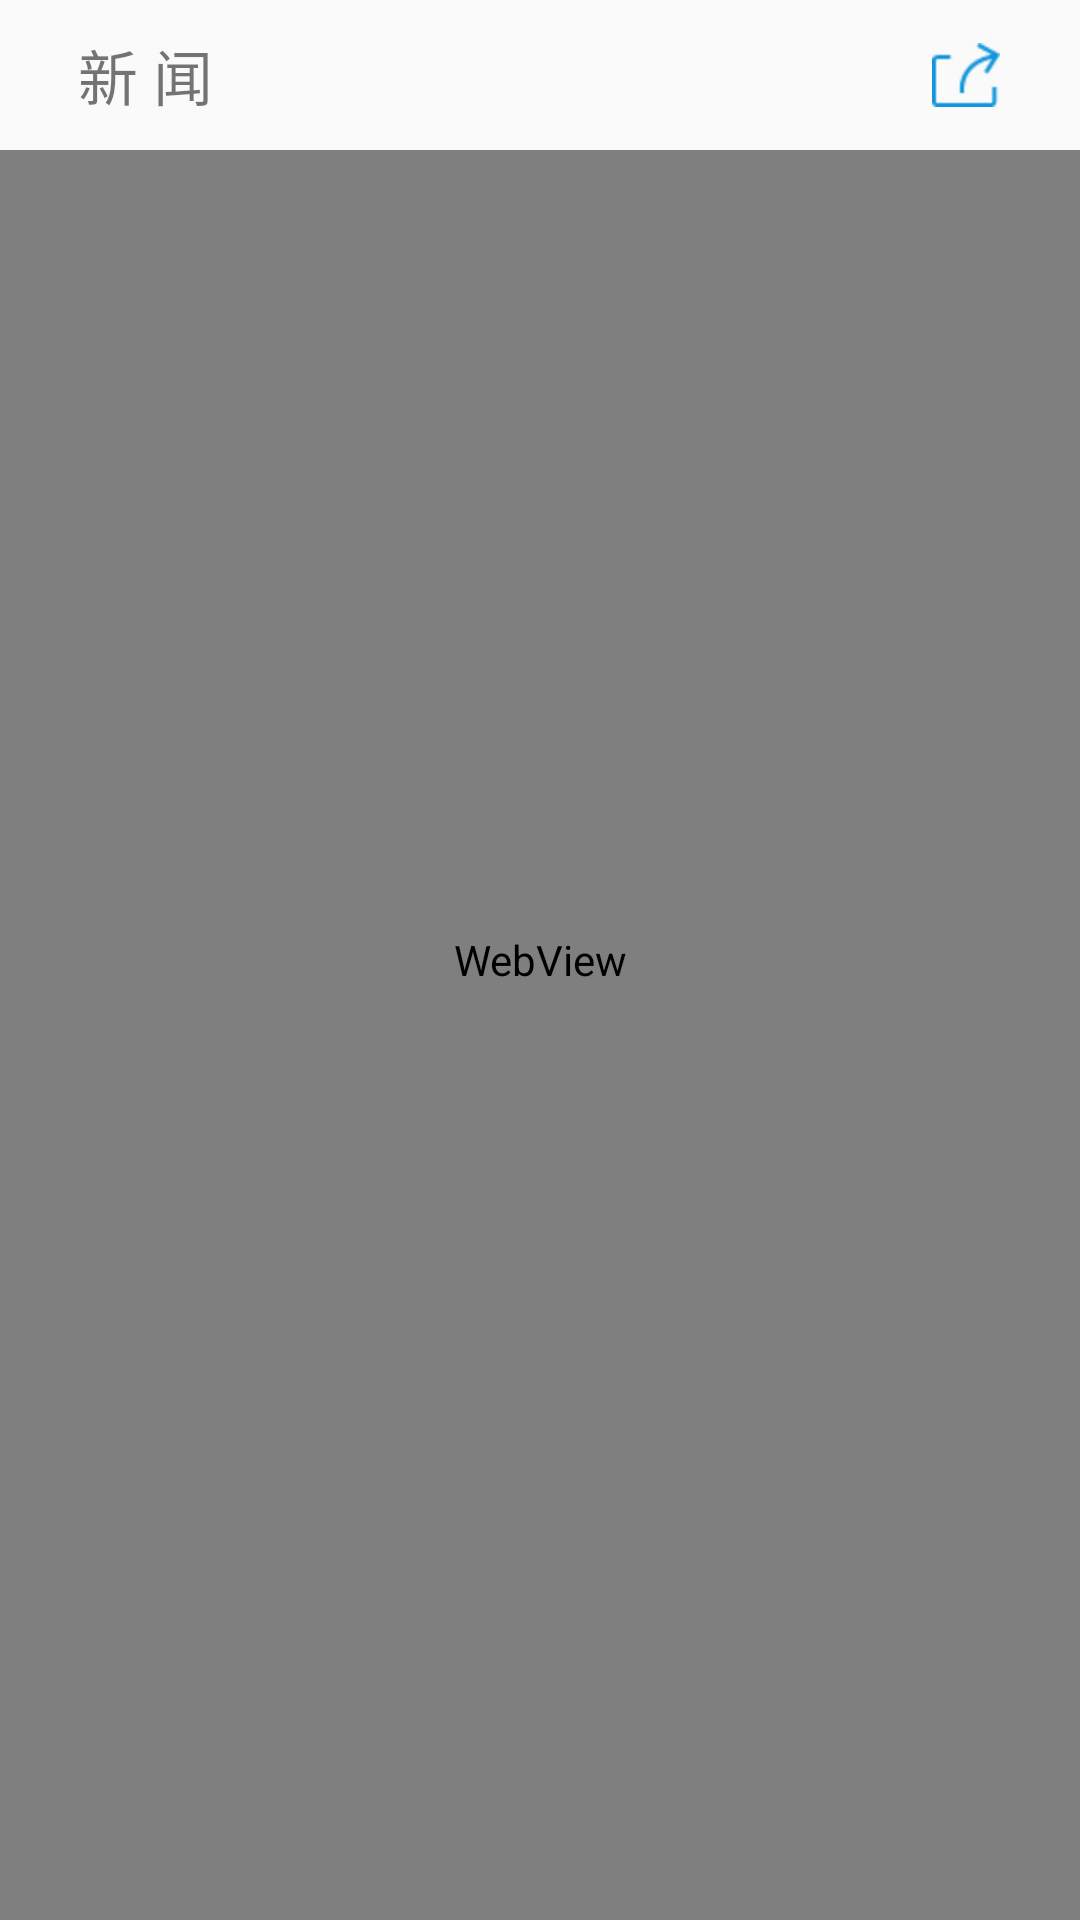

Where icons sit on this 1080px x 1920px app screen, as [x1=x1, y1=y1, x2=x2, y2=y2]:
share: [x1=932, y1=43, x2=1000, y2=107]
